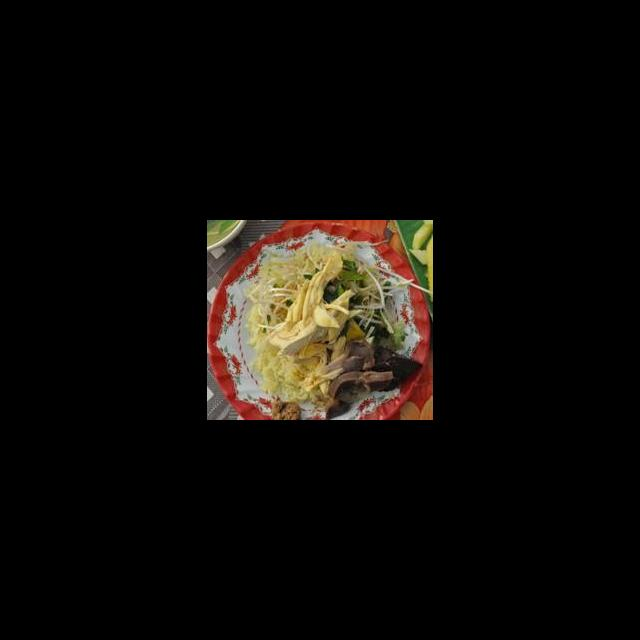com: (248, 344, 324, 403), (257, 241, 325, 282), (242, 305, 271, 352)
com ga: (211, 242, 433, 420)
rau ram: (321, 258, 368, 305)
thit ga: (263, 288, 358, 359), (282, 249, 346, 327), (298, 347, 354, 395)
